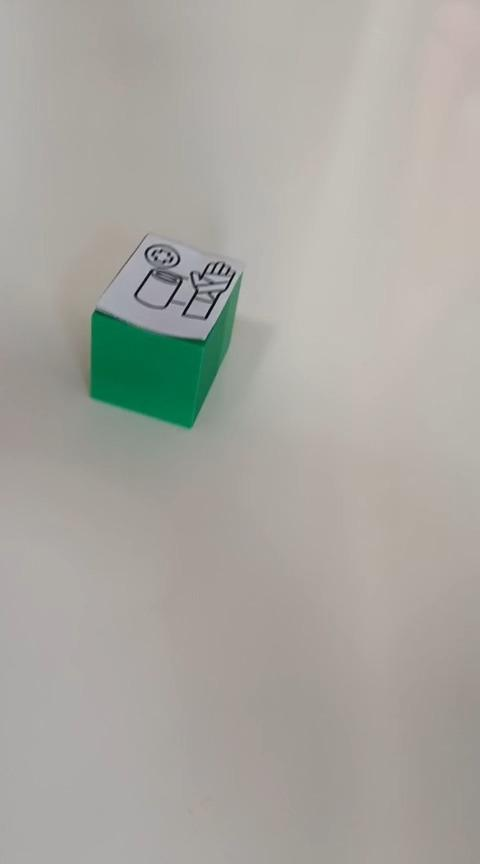Bandages: (88, 231, 245, 429)
